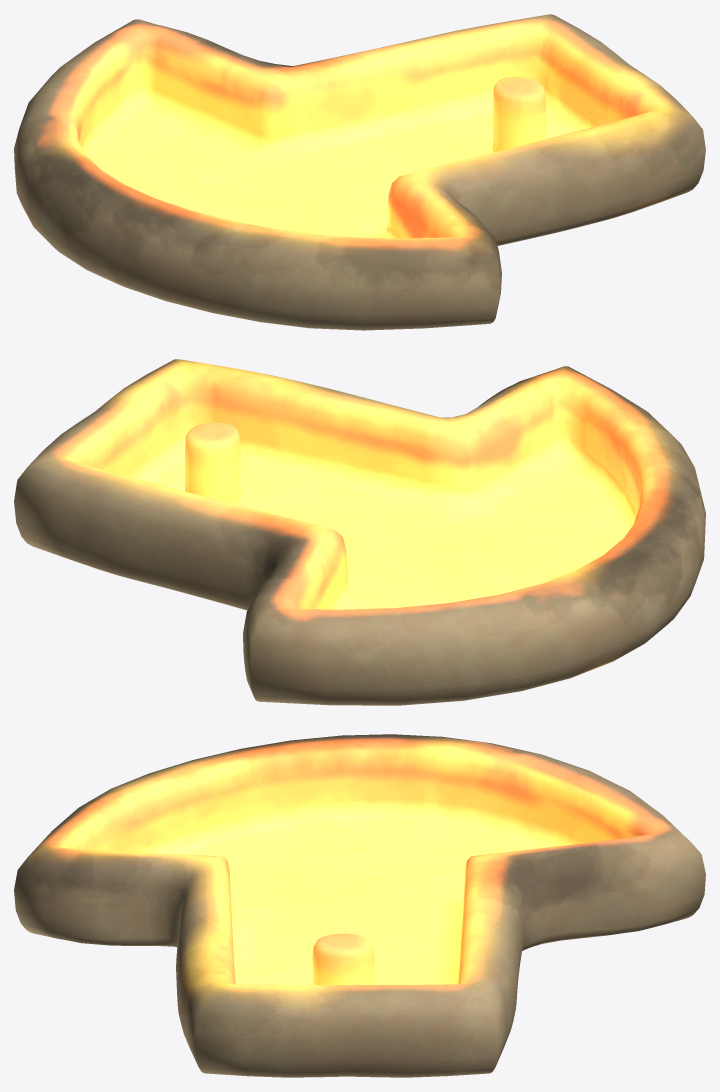
File: MoldeHacha.fbx
The picture shows the model from 3 angles, top to bottom: view 1: azimuth 30°, elevation 25°; view 2: azimuth 150°, elevation 25°; view 3: azimuth 270°, elevation 25°; orthographic projection. The views are drawn at different scales.
Visible parts, largest first — view 1: CeramicaMolde; view 2: CeramicaMolde; view 3: CeramicaMolde.
Part boxes in pixels (x1,y1,x2,y2): CeramicaMolde: (14,14,705,330); CeramicaMolde: (14,359,705,705); CeramicaMolde: (14,734,705,1077).
Size of the model in its own units: 43.33 by 44.88 by 6.04.
1 material, 1 textured.
